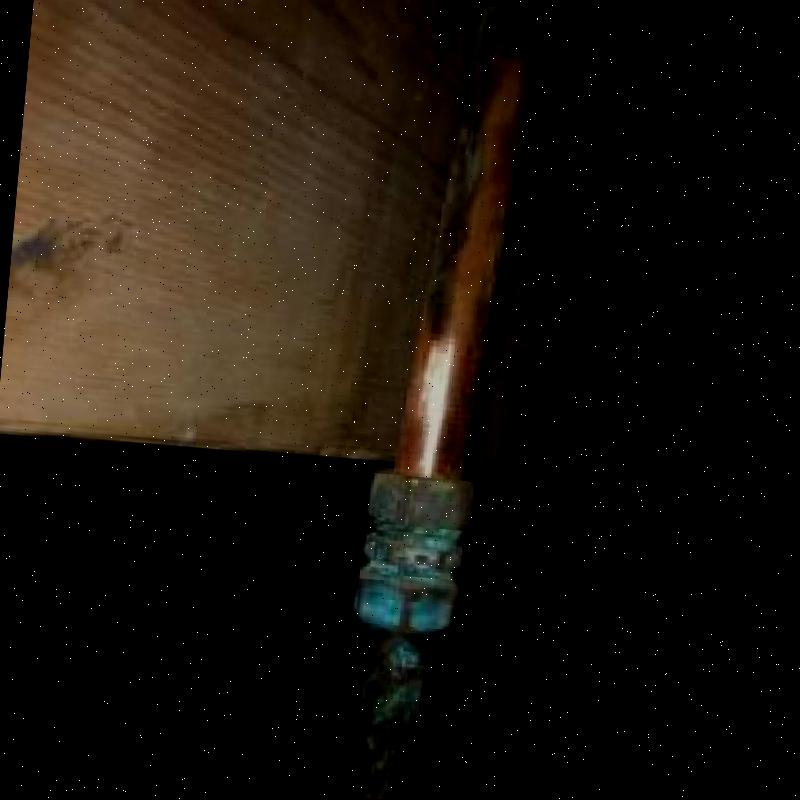corrosion: (348, 521, 453, 800)
